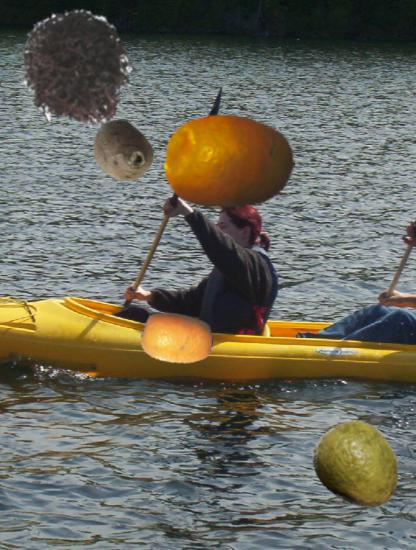Guava: (310, 419, 406, 515)
Kumquats: (162, 96, 295, 229), (141, 303, 213, 375)
Lemon: (182, 134, 252, 204)
Potato: (91, 118, 156, 183)
Rambutan: (11, 7, 146, 142)
